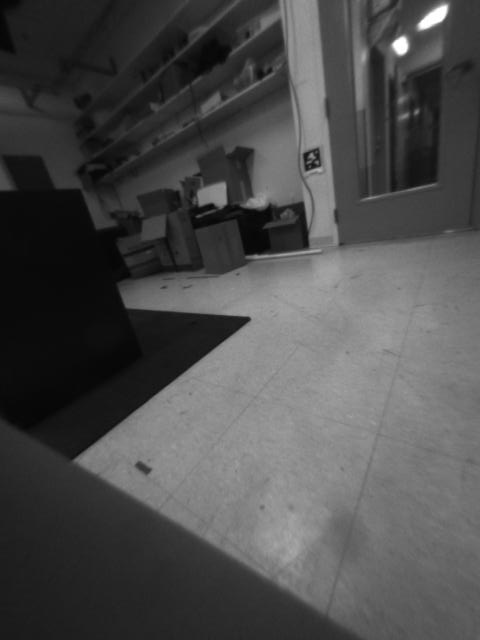door_handle: (441, 53, 479, 78)
